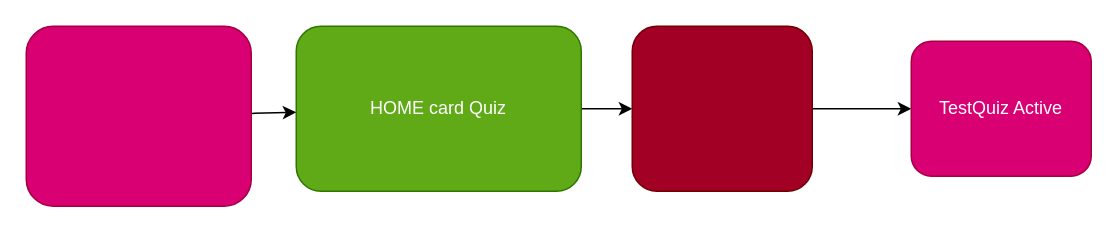
Some shapes in this 1118 by 233 pixel diagram are drawn without their labels. Each missing label, with the centre of its shape:
"Ready Quiz" goes at point (721, 108).
"User_Login name email password scoore:for each Quiz" goes at point (138, 115).
